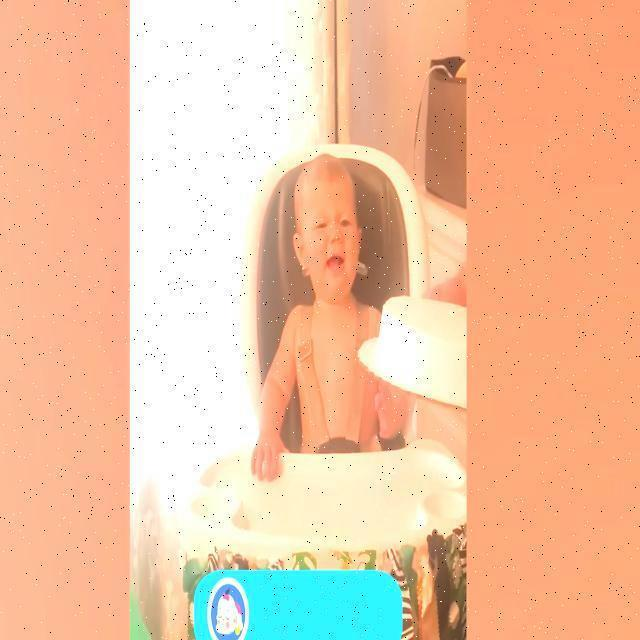child: (251, 149, 412, 482)
